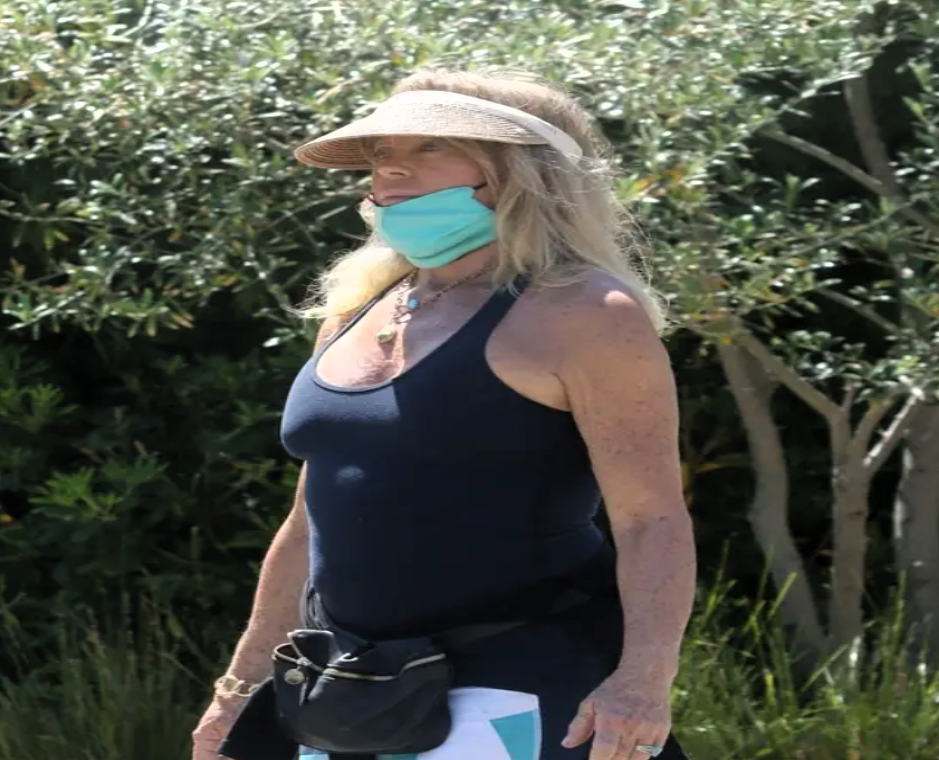mask_weared_incorrect: (309, 72, 598, 275)
